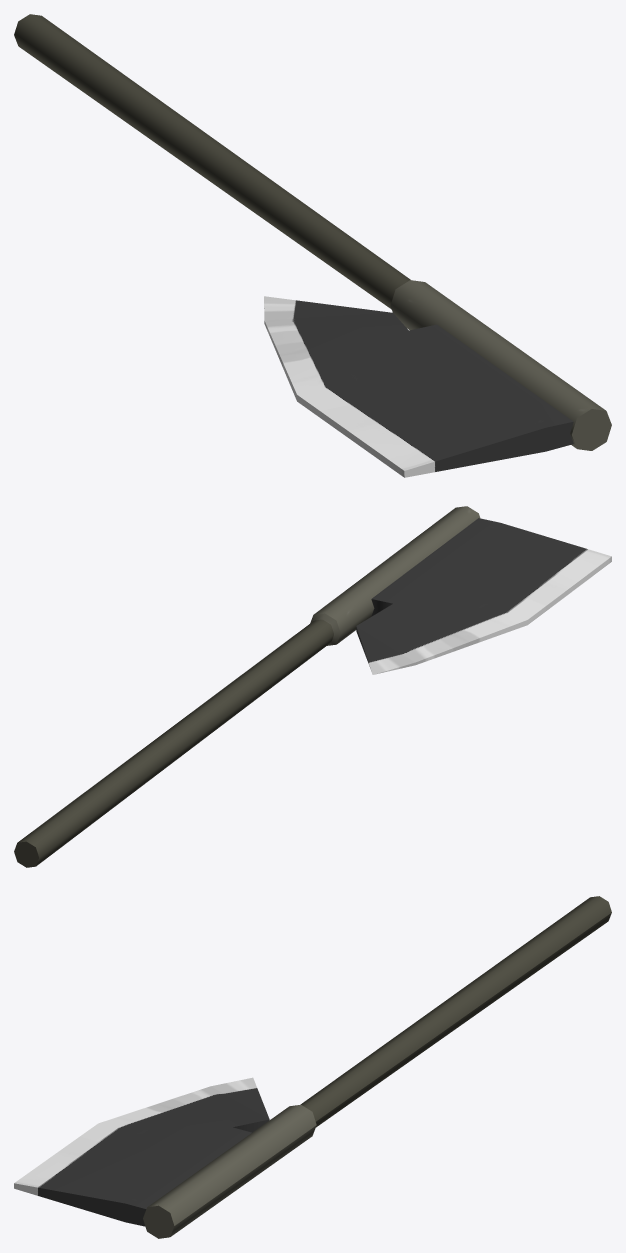
Rendered from Axe_Mesh.fbx.
The picture shows the model from 3 angles, top to bottom: view 1: azimuth 30°, elevation 25°; view 2: azimuth 150°, elevation 25°; view 3: azimuth 330°, elevation 25°; orthographic projection. The views are drawn at different scales.
Visible parts, largest first — view 1: polySurface24; view 2: polySurface24; view 3: polySurface24.
Boxes of the visible parts, left/top/right/bottom form: polySurface24: left=14, top=14, right=611, bottom=477; polySurface24: left=14, top=506, right=611, bottom=867; polySurface24: left=14, top=896, right=611, bottom=1238.
Size of the model in its own units: 1.44 by 0.3345 by 6.8.
